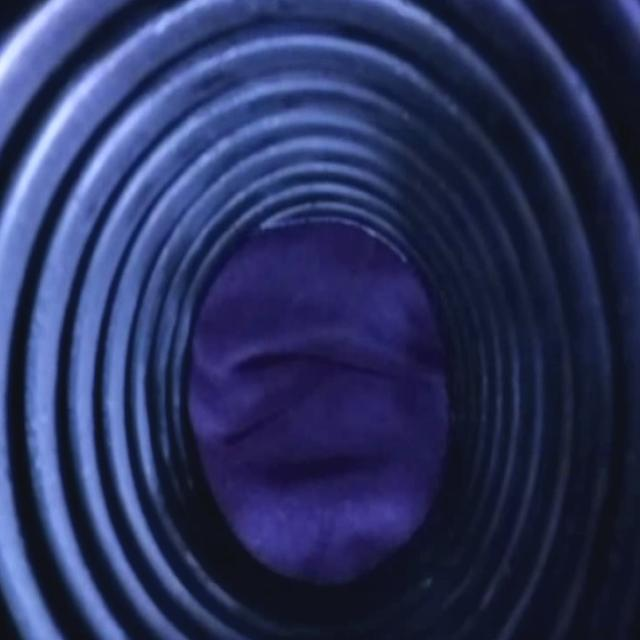block: (183, 223, 450, 571)
